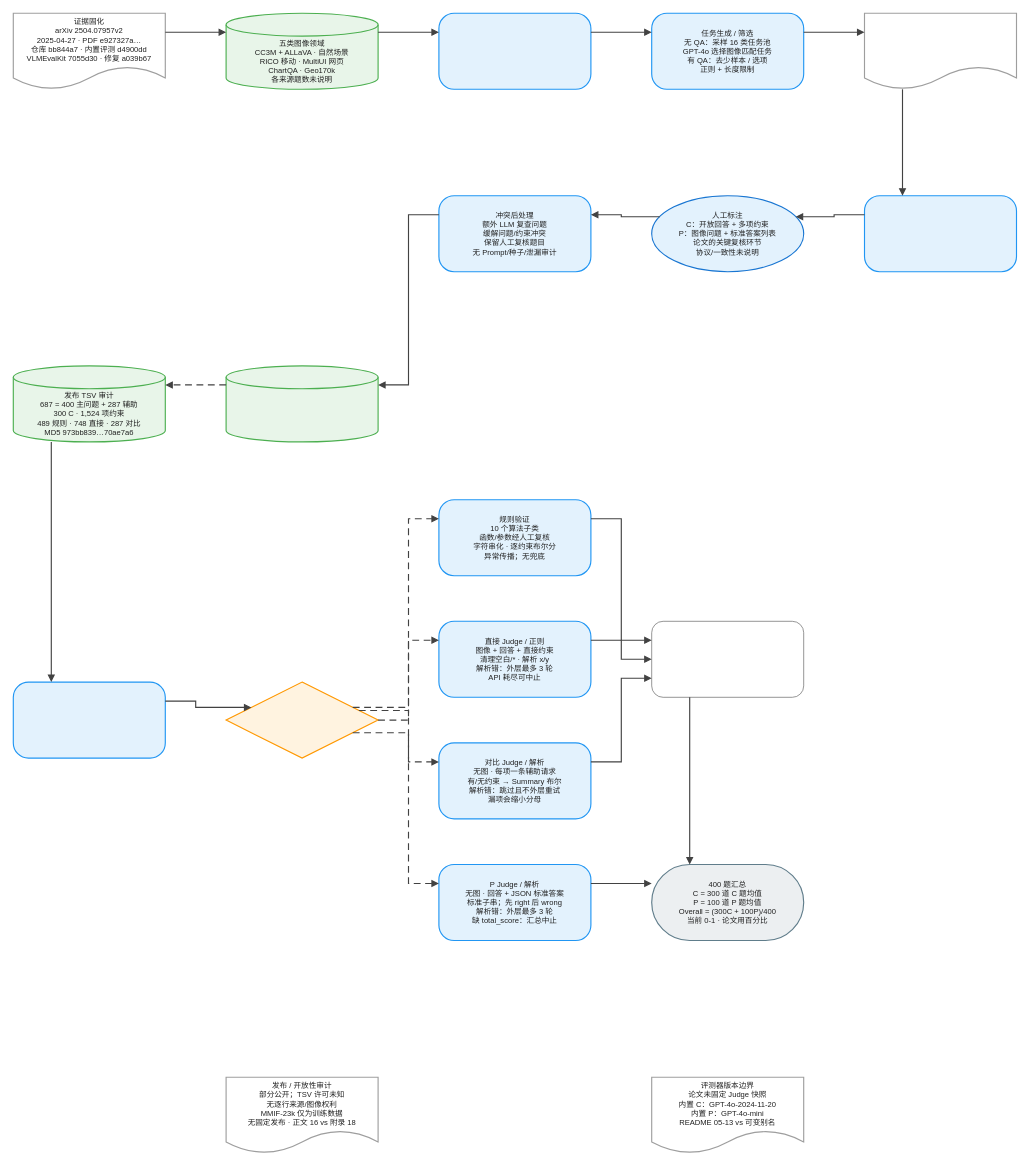
Image size: 1031x1167. Some labels were removed from this diagram. Each missing label, with the centre of its shape:
"C 单题 / 失败计分 规则/对比二值 · 直接 x/y 正常：已记录约束分数均值 对比解析错会缩小分母 缺 total_score：C 汇总加 0" belongs at (727,659).
"候选模型推理 C：图像 + 完整约束 Prompt P：图像 + 原始问题 辅助：移除一项约束 解码参数未固定" belongs at (89,719).
"图像质量筛选 剔除低分辨率 剔除低语义丰富度 信号：IC9600 + RAM 阈值/淘汰数未说明" belongs at (514,51).
"约束分类体系 6 大类 · 32 个子类别 长度 · 数学 · 语言/格式 修辞/逻辑 · 动作 关键词 · LLM 填充内容" belongs at (940,51).
"约束整合 无 QA：为多样性采样 有 QA：选择兼容类型 LLM 重选/生成内容 剔除完全矛盾组合" belongs at (940,233).
"论文基准 400 道主问题 300 C · 平均 5.1 项约束 100 P · 标准答案列表 P 覆盖 13 类图像" belongs at (301,403).
"评测 / 失败路由 TSV 标签 → 规则 · 直接 · 对比 · P API：直接 ×4 · 对比/P ×3 ans 未赋值可中止 解析策略因路径而异" belongs at (301,719).
